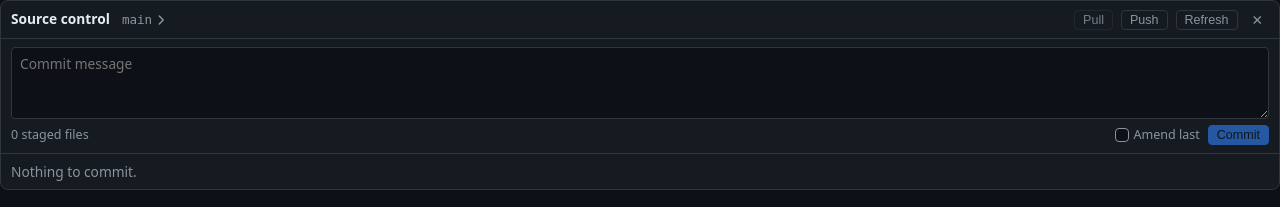
choosing a branch › lists them once it is open
Click the button with aria-label "Switch branch" at (145, 20), box [118,11,172,28]
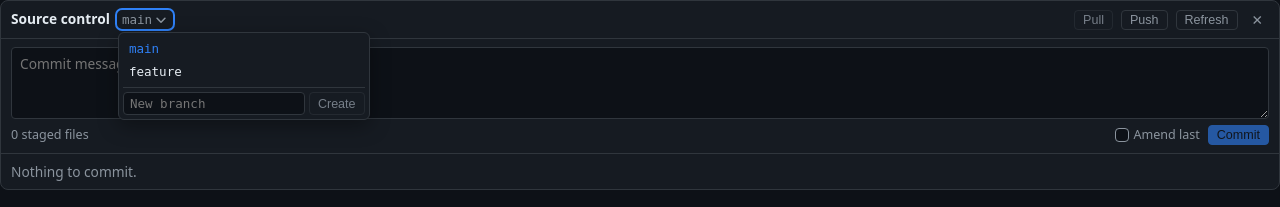
Result: the button "feature" is shown at [123,60,365,83]
